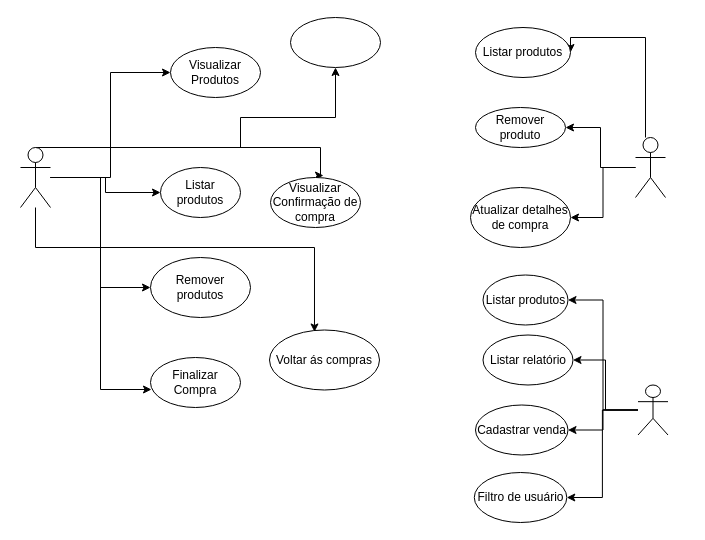
Some shapes in this 705 by 540 pixel diagram are drawn without their labels. The shapes that lost their labels are listed below. From the top down, each one's box as (x1, y1, x2, y2) in pixels, then its label:
(290, 16, 380, 68): Fornecer detalhes de compra
(20, 146, 50, 208): Cliente
(634, 136, 666, 198): Administrador
(637, 384, 668, 435): Vendedor
